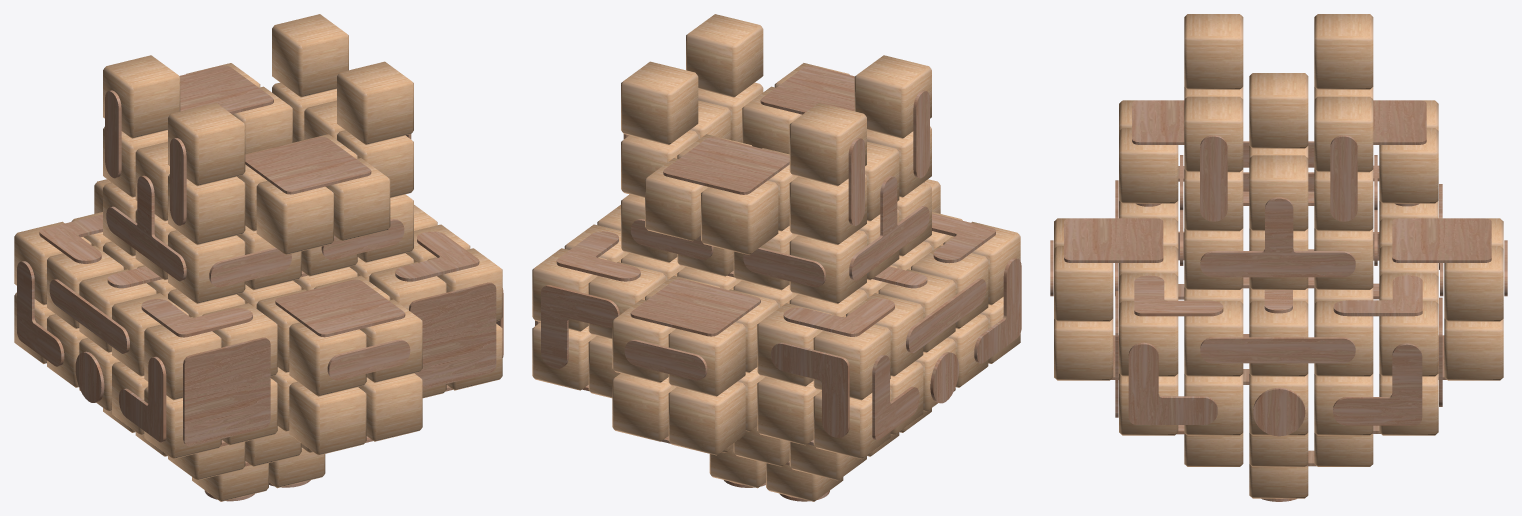
The model's file is level_94.fbx.
3 renders of one model, left to right at view 1: azimuth 30°, elevation 25°; view 2: azimuth 150°, elevation 25°; view 3: azimuth 270°, elevation 25°, orthographic.
Parts seen in each view (by area): view 1: obj_obs_square.004, obj_obs_square.003, Cube.087, Cube.091, Cube.084, Cube.088, Cube.102, obj_obs_square.008, obj_obs_square.005, Cube.094, Cube.056, Cube.096 (+58 smaller); view 2: Cube.091, Cube.087, Cube.088, Cube.084, Cube.104, obj_obs_square.007, obj_obs_square.006, Cube.098, Cube.080, obj_obs_L.013, Cube.100, obj_obs_L.014 (+59 smaller); view 3: obj_obs_T.003, Cube.060, Cube.088, Cube.084, obj_obs_square.008, obj_obs_square.007, obj_obs_L.002, obj_obs_L.001, obj_obs_Y.001, Cube.103, Cube.105, Cube.101 (+42 smaller).
Boxes of the visible parts, x1,y1,x2,y2 form: obj_obs_square.004: (183,337,270,446); obj_obs_square.003: (409,282,496,389); Cube.087: (337,61,413,144); Cube.091: (272,14,348,97); Cube.084: (168,103,245,186); Cube.088: (103,55,180,138); Cube.102: (256,181,333,254); obj_obs_square.008: (275,279,405,337); obj_obs_square.005: (245,136,371,194); Cube.094: (289,381,366,455); Cube.056: (168,174,245,244); Cube.096: (289,322,366,396); Cube.091: (621,61,698,144); Cube.087: (686,14,763,97); Cube.088: (789,103,866,186); Cube.084: (854,55,931,138); Cube.104: (701,180,778,254); obj_obs_square.007: (630,279,760,336); obj_obs_square.006: (663,137,789,194); Cube.098: (668,381,745,455); Cube.080: (789,174,866,244); obj_obs_L.013: (771,342,849,437); Cube.100: (668,322,745,396); obj_obs_L.014: (541,285,619,368); obj_obs_T.003: (1200,197,1355,277); Cube.060: (1249,73,1308,148); Cube.088: (1314,14,1373,89); Cube.084: (1184,14,1243,89); obj_obs_square.008: (1064,218,1163,262); obj_obs_square.007: (1392,218,1491,262); obj_obs_L.002: (1333,343,1422,425); obj_obs_L.001: (1128,342,1217,424); obj_obs_Y.001: (1200,337,1355,363); Cube.103: (1119,128,1178,203); Cube.105: (1379,128,1438,203); Cube.101: (1444,246,1503,321).
Size of the model in its own units: 13.33 by 15.33 by 15.46.
